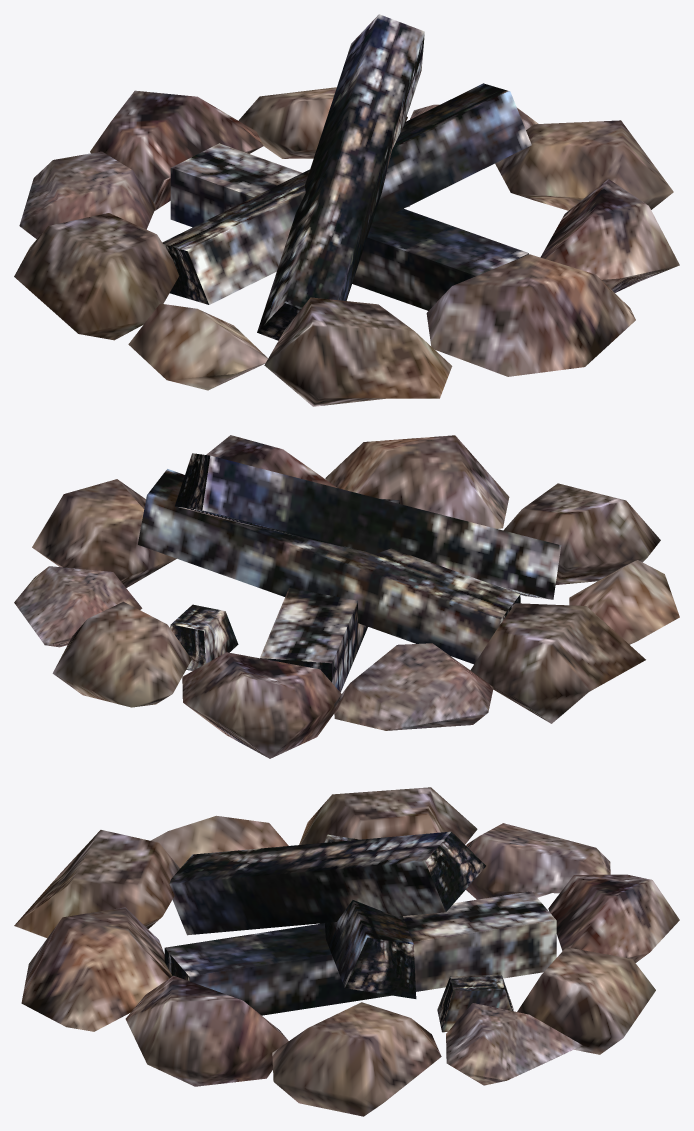
File: m_ochag1.glb
3 renders of one model, top to bottom at view 1: azimuth 30°, elevation 25°; view 2: azimuth 150°, elevation 25°; view 3: azimuth 270°, elevation 25°, orthographic. The views are drawn at different scales.
Visible parts, largest first — view 1: m_ochag1; view 2: m_ochag1; view 3: m_ochag1.
Boxes of the visible parts, left/top/right/bottom form: m_ochag1: left=14, top=14, right=679, bottom=406; m_ochag1: left=14, top=435, right=679, bottom=758; m_ochag1: left=14, top=787, right=679, bottom=1116.
Size of the model in its own units: 0.8418 by 0.2857 by 0.8417.
Materials: 2 (2 with a texture image).
